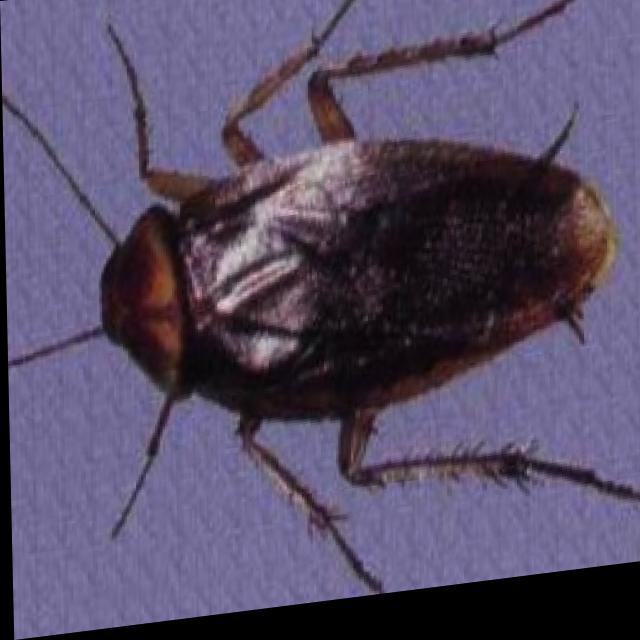cockroach: (0, 131, 616, 523)
